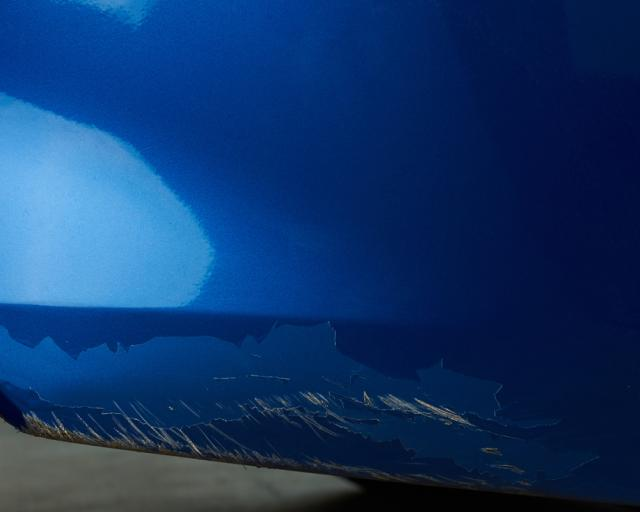scratch: (21, 368, 541, 495)
